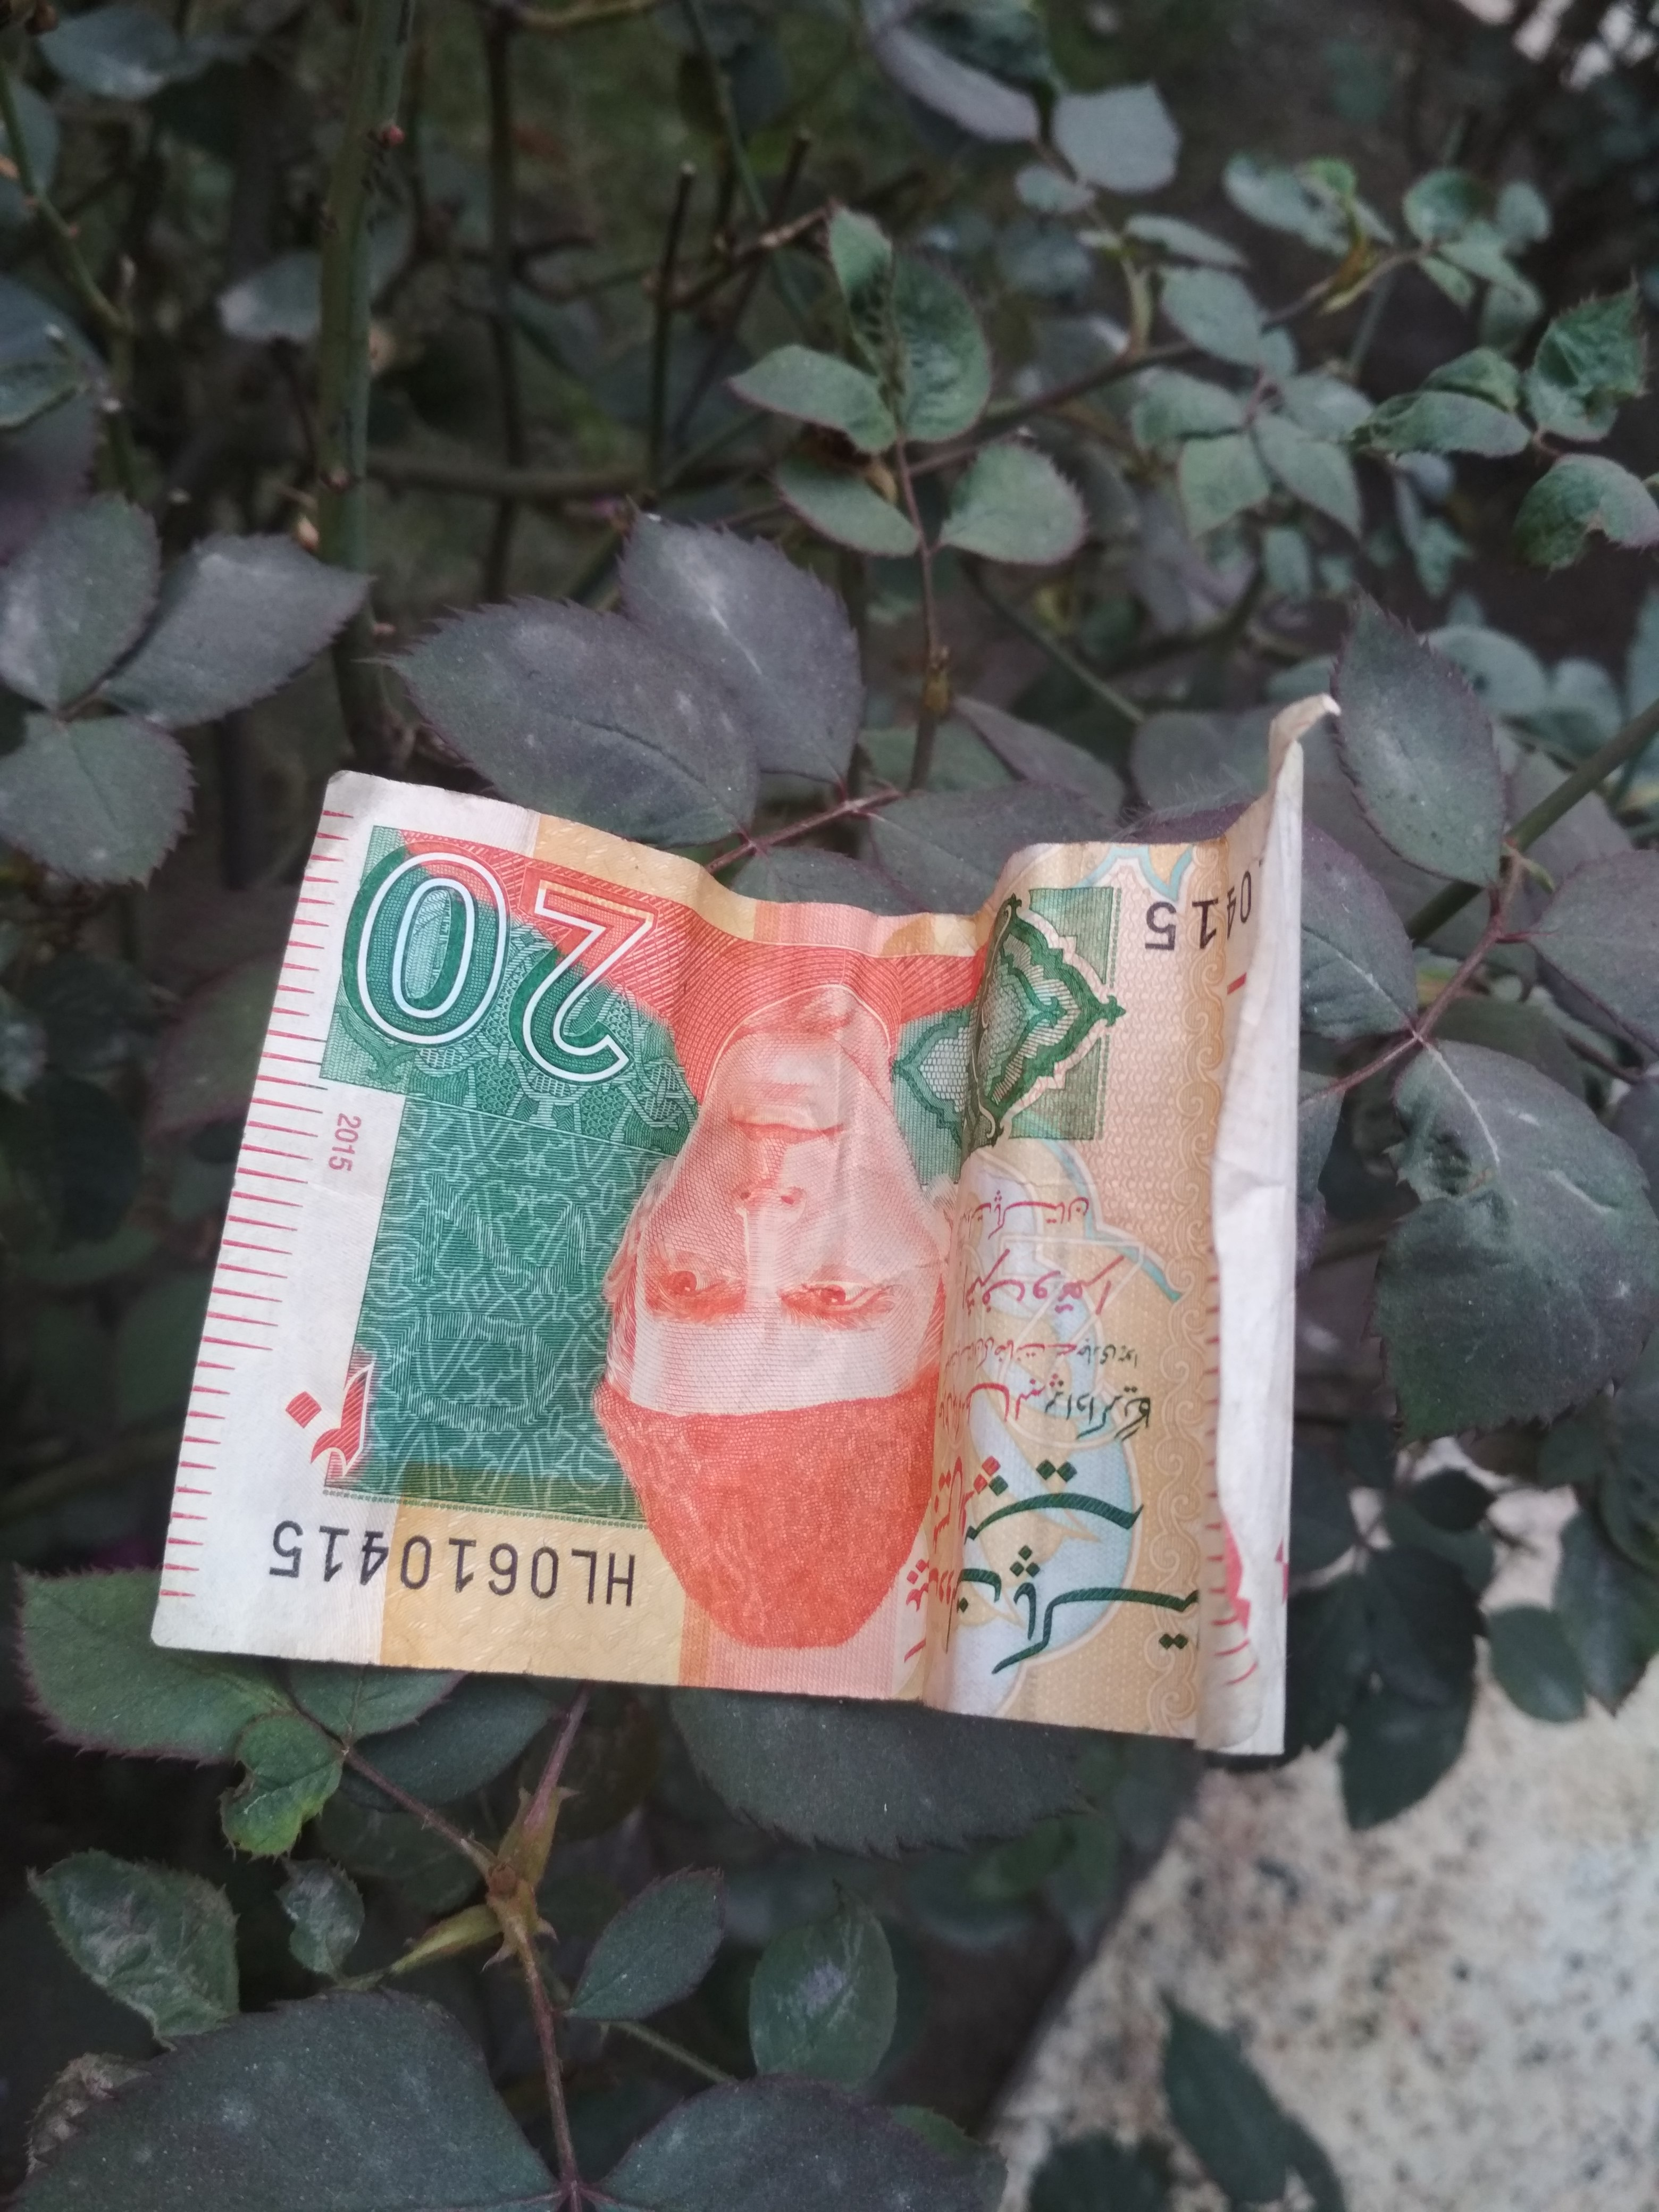20 rupee: (129, 658, 1436, 1808)
